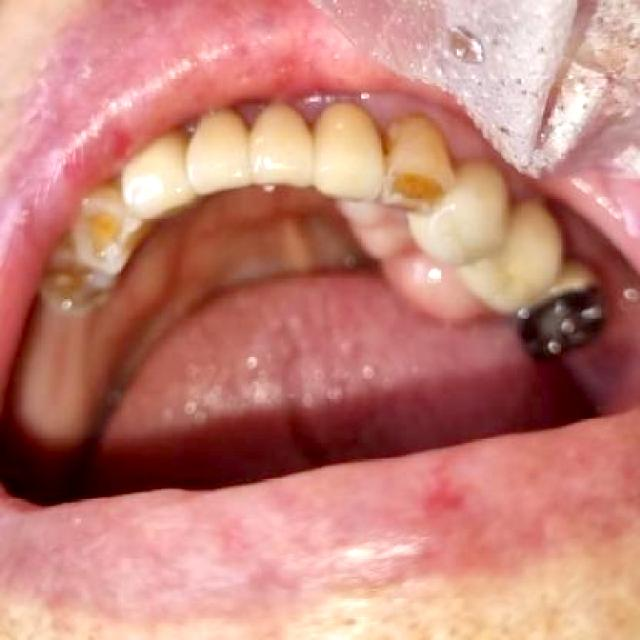Plaque: (374, 121, 416, 168)
